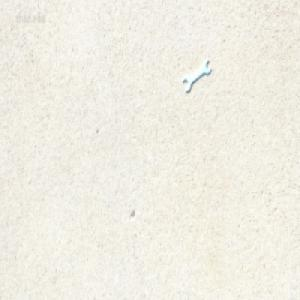Wrench: (183, 60, 209, 93)
